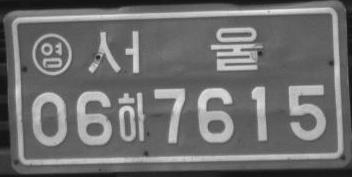0: (30, 90, 67, 147)
1: (245, 85, 279, 142)
5: (287, 84, 327, 142)
6: (196, 86, 234, 143), (75, 89, 112, 146)
7: (153, 86, 186, 145)
서울_D: (87, 26, 264, 74)
영: (31, 32, 73, 76)
하: (116, 91, 147, 142)
